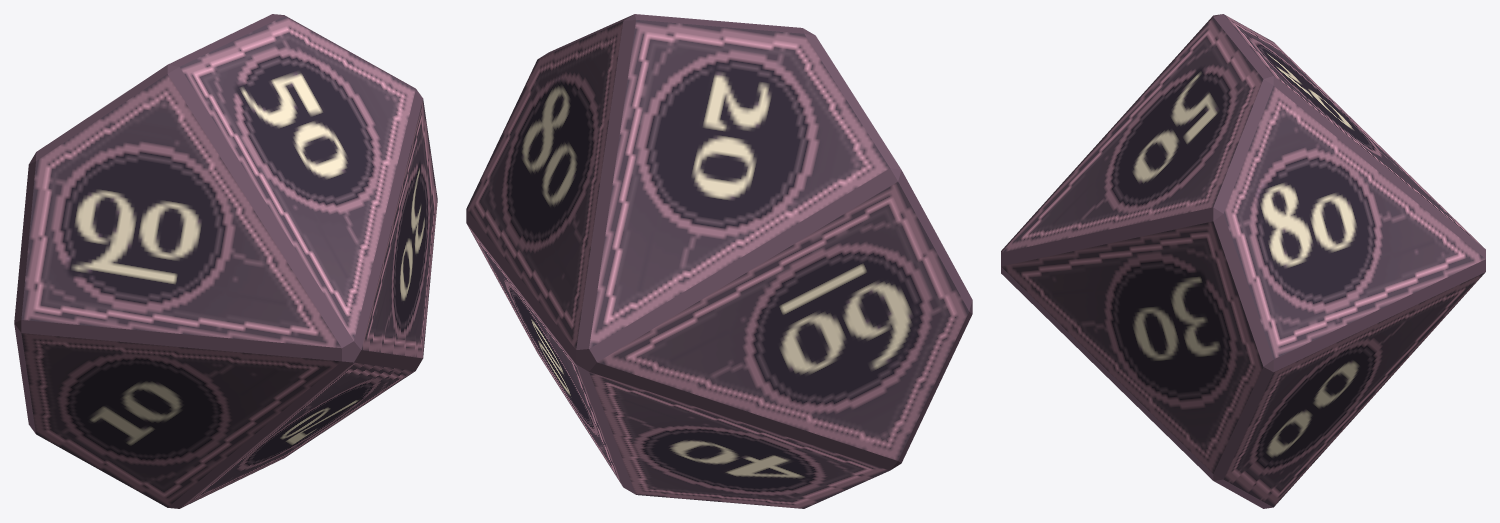
3 views of the same model, side by side, from view 1: azimuth 30°, elevation 25°; view 2: azimuth 150°, elevation 25°; view 3: azimuth 270°, elevation 25° (orthographic). The views are drawn at different scales.
Size of the model in its own units: 188 by 179 by 183.
Materials: 1 (1 with a texture image).
